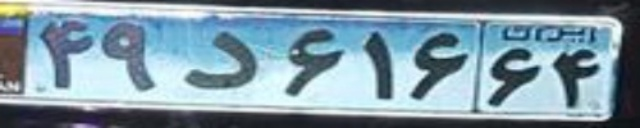1: (362, 31, 393, 99)
4: (36, 19, 93, 88), (552, 48, 599, 107)
6: (281, 28, 344, 96), (406, 30, 467, 99), (485, 48, 542, 105)
9: (99, 22, 158, 91)
dal: (181, 30, 257, 88)
